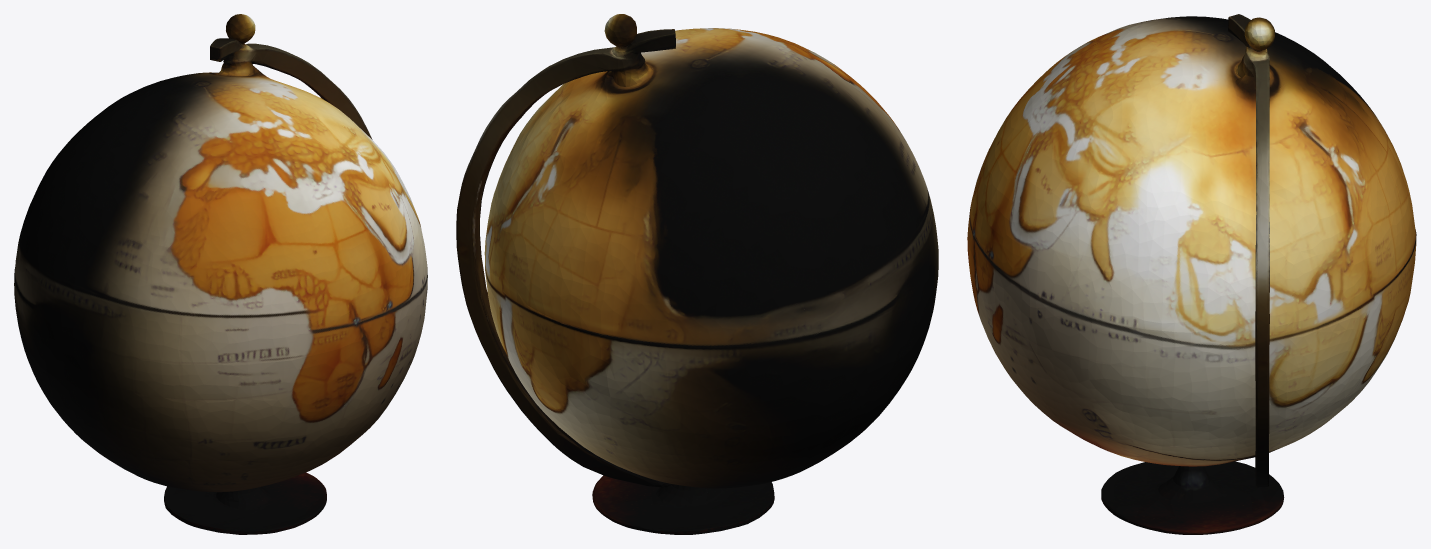
The model's file is porcelain-globe-rustic.jpeg.glb.
3 views of the same model, side by side, from view 1: azimuth 30°, elevation 25°; view 2: azimuth 150°, elevation 25°; view 3: azimuth 270°, elevation 25° (orthographic). The views are drawn at different scales.
Visible parts, largest first — view 1: world; view 2: world; view 3: world.
Boxes of the visible parts, bbox=[...] form: world: bbox=[14, 14, 427, 534]; world: bbox=[456, 14, 938, 534]; world: bbox=[967, 14, 1416, 534].
Bounding box in the file's own units: 0.8656 × 0.9997 × 0.8259.
Materials: 1 (1 with a texture image).
